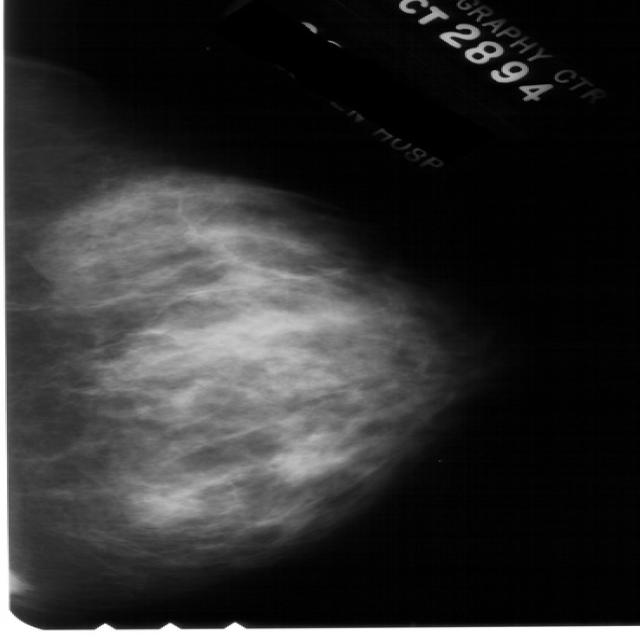tumour: (126, 482, 200, 524)
